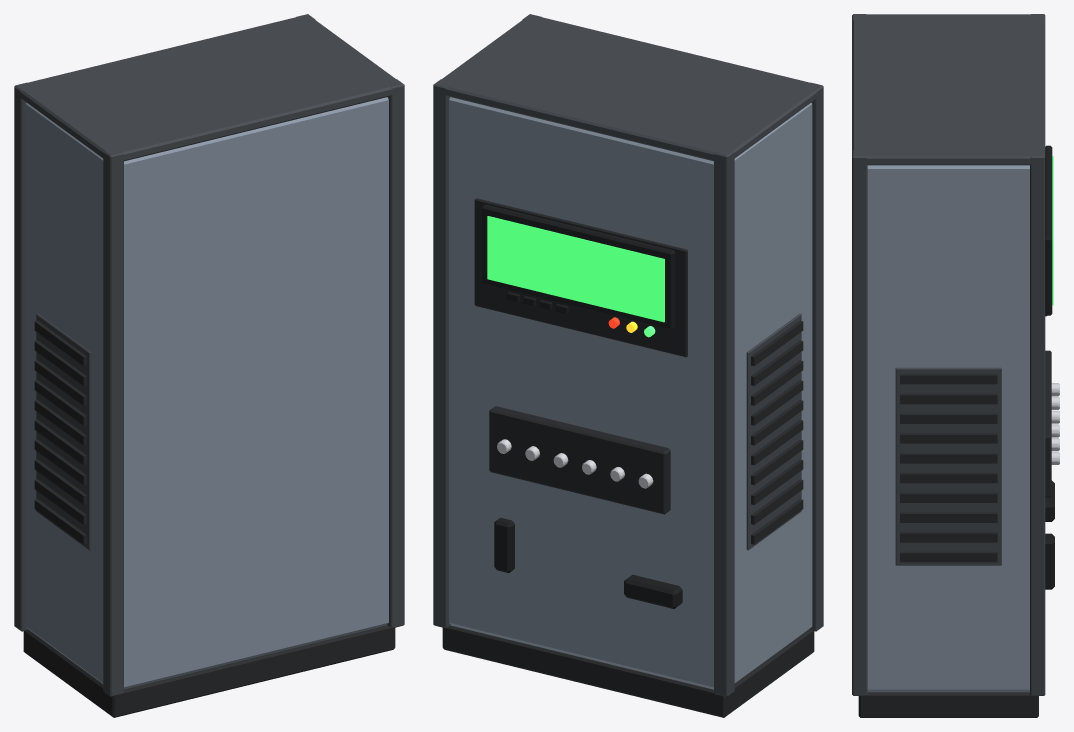
File: comms_suite.glb
The picture shows the model from 3 angles, left to right: view 1: azimuth 30°, elevation 25°; view 2: azimuth 150°, elevation 25°; view 3: azimuth 270°, elevation 25°; orthographic projection.
Visible parts, largest first — view 1: comms_suite; view 2: comms_suite; view 3: comms_suite.
Boxes of the visible parts, x1,y1,x2,y2 form: comms_suite: (14,14,404,717); comms_suite: (433,14,823,717); comms_suite: (852,14,1059,717).
Bounding box in the file's own units: 1 × 1.8 × 0.6.
